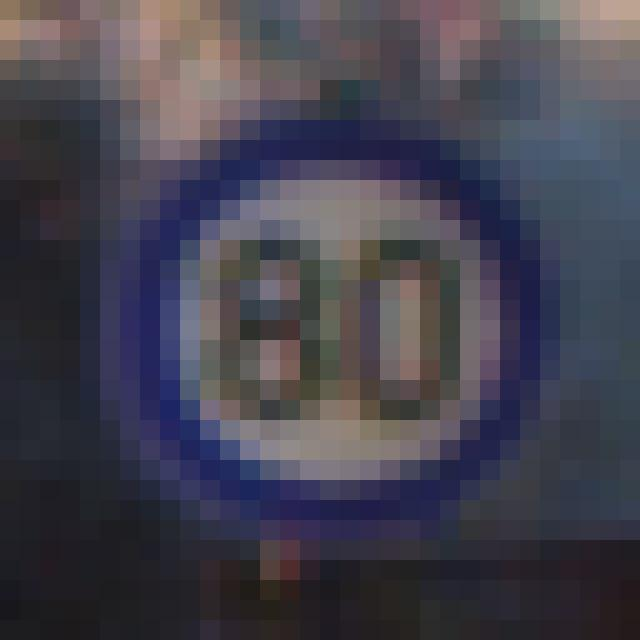SPEED-LIMIT-80: (111, 109, 541, 535)
